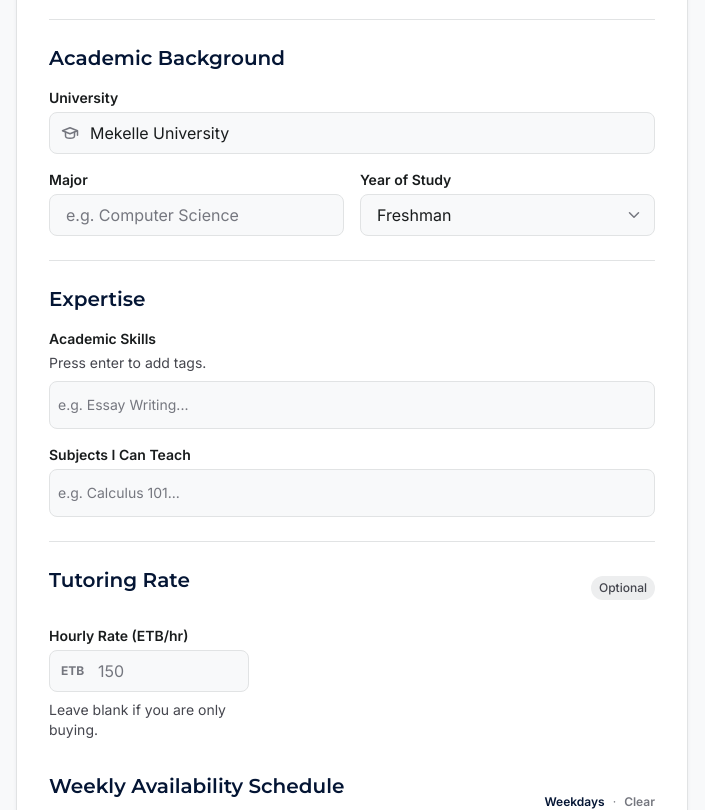
CompleteProfilePage › adds and removes skill tags on enter and close
(page scrolled)
Type "Python" into the field labelled "Academic Skills". click: (352, 405)
box: [58,395,646,415]
Then press Enter
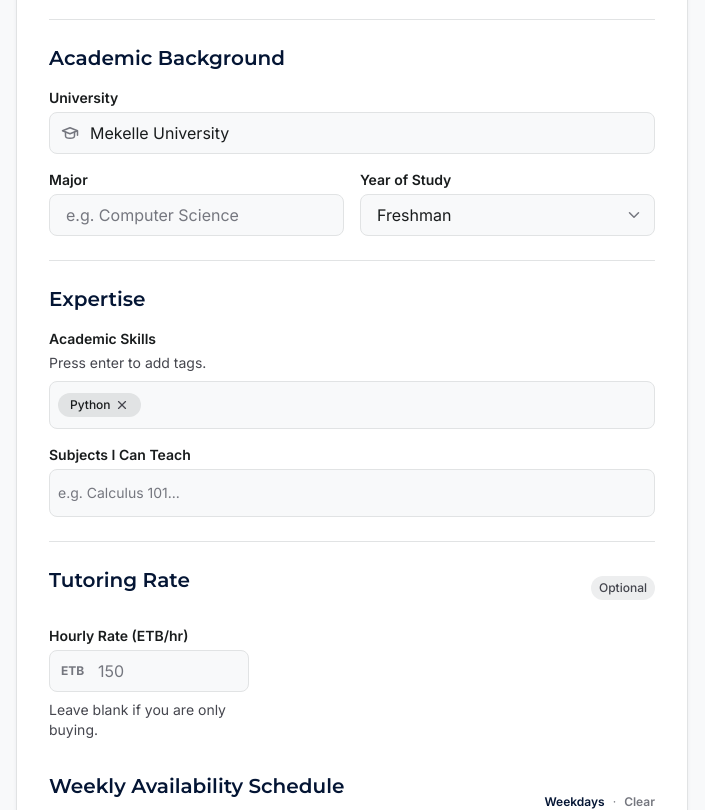
Expected: the text "Python" is shown, [70,397,111,412]
Click the button named "Remove Python". click: (122, 405)
box: [115,398,129,412]
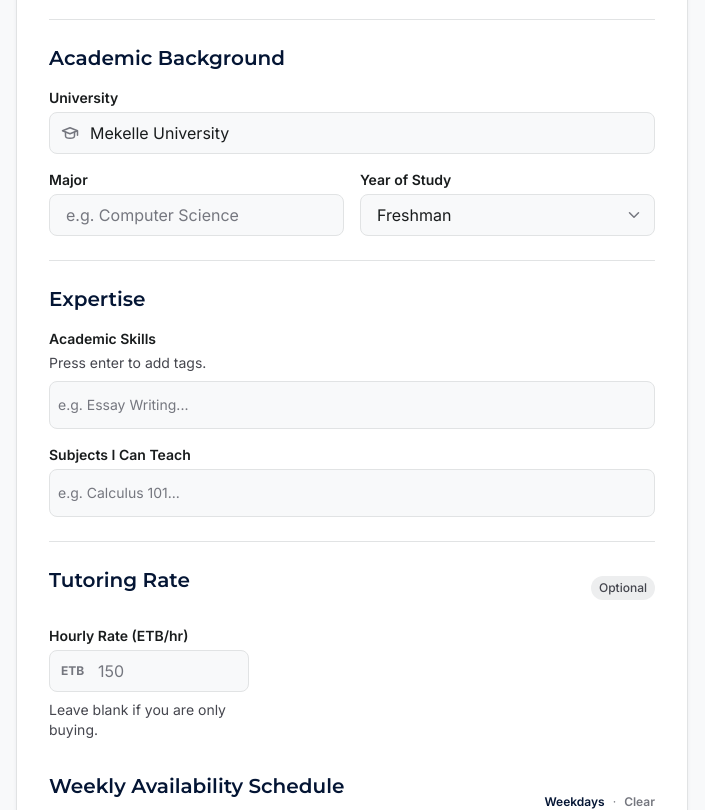
Expected: the text "Python" is gone
